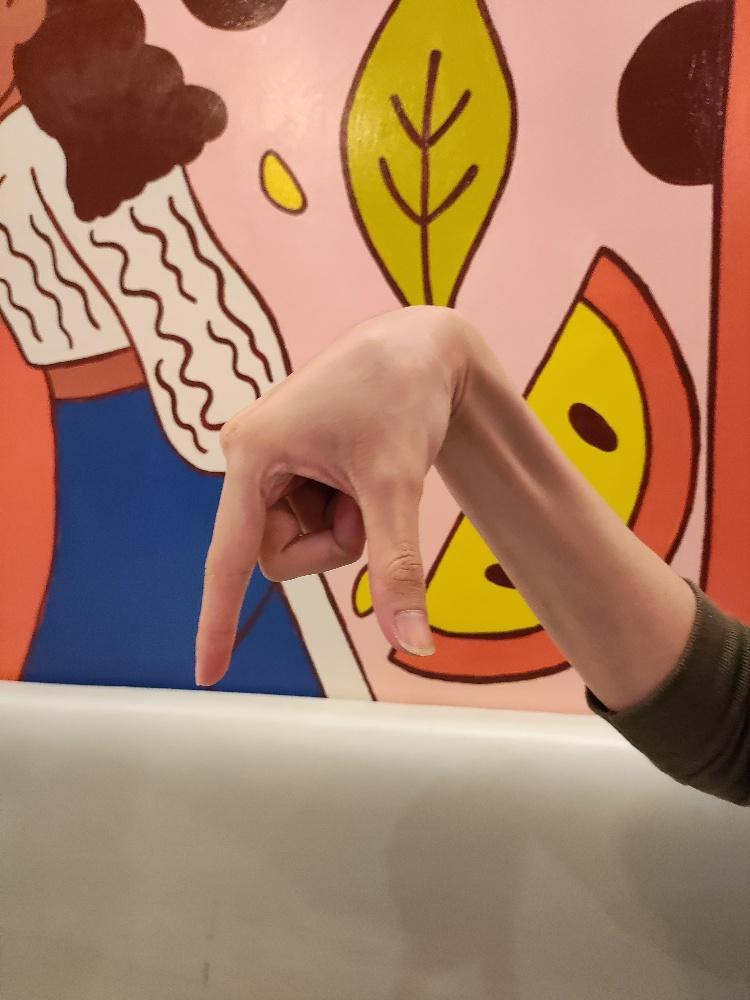q: (191, 301, 455, 688)
